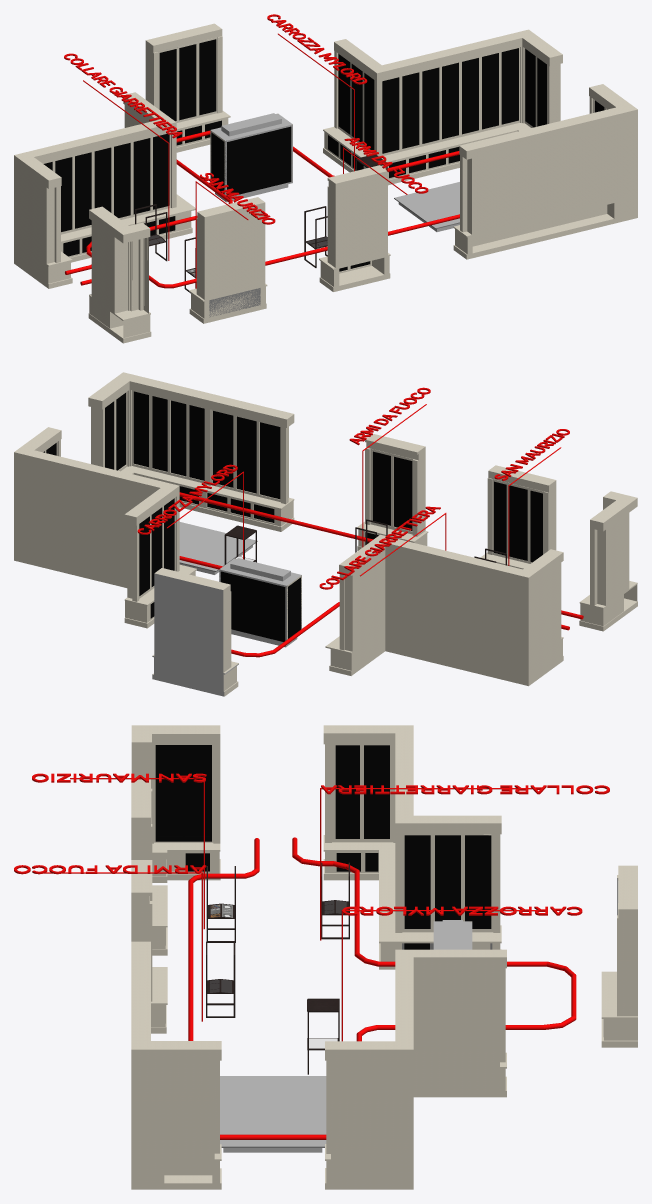
The model's file is rotonda25.obj.
3 renders of one model, top to bottom at view 1: azimuth 30°, elevation 25°; view 2: azimuth 150°, elevation 25°; view 3: azimuth 270°, elevation 25°, orthographic. The views are drawn at different scales.
Parts seen in each view (by area): view 1: Mesh2_Model_4, Mesh1_Model_3, Mesh1_Model_5, Mesh13_Model_3, Mesh12_Group1_Model, Mesh13_Model, Mesh1_Group1_Model_6, Mesh1_Model_2, Mesh13_Model_2, Object_3.001, Mesh1_Group1_Model_4, Object_46 (+9 smaller); view 2: Mesh13_Model_2, Mesh1_Model_5, Mesh2_Model_2, Mesh2_Model_4, Mesh1_Model_2, Object_98, Mesh13_Model_3, Mesh1_Group1_Model_6, Mesh12_Group1_Model, Object_1.001, Mesh12_Group1_Model_2, Mesh1_Group1_Model_5 (+9 smaller); view 3: Mesh1_Model_5, Mesh2_Model_4, Mesh13_Model_2, Object_46, Mesh13_Model, Mesh1_Model_2, Mesh13_Model_3, Mesh1_Group1_Model_4, Mesh1_Group1_Model_6, Mesh12_Group1_Model, Mesh6_Model, Mesh5_Model (+8 smaller).
Part boxes in pixels (x1,y1,x2,y2): Mesh2_Model_4: (453,84,637,259); Mesh1_Model_3: (328,48,546,177); Mesh1_Model_5: (323,29,562,185); Mesh13_Model_3: (14,97,195,288); Mesh12_Group1_Model: (189,197,267,323); Mesh13_Model: (43,134,175,256); Mesh1_Group1_Model_6: (319,165,390,291); Mesh1_Model_2: (88,206,151,343); Mesh13_Model_2: (14,92,195,266); Object_3.001: (227,126,291,195); Mesh1_Group1_Model_4: (65,130,459,288); Object_46: (394,182,459,227); Mesh13_Model_2: (326,534,562,685); Mesh1_Model_5: (14,427,196,628); Mesh2_Model_2: (105,391,280,522); Mesh2_Model_4: (88,372,294,531); Mesh1_Model_2: (579,491,637,631); Object_98: (159,581,218,671); Mesh13_Model_3: (325,544,563,685); Mesh1_Group1_Model_6: (357,434,428,550); Mesh12_Group1_Model: (480,465,556,569); Object_1.001: (221,571,285,641); Mesh12_Group1_Model_2: (494,481,542,562); Mesh1_Group1_Model_5: (365,451,412,545); Mesh1_Model_5: (325,949,506,1189); Mesh2_Model_4: (131,941,221,1189); Mesh13_Model_2: (323,725,501,961); Object_46: (220,1076,326,1146); Mesh13_Model: (335,745,389,871); Mesh1_Model_2: (131,725,220,882); Mesh13_Model_3: (323,733,501,969); Mesh1_Group1_Model_4: (188,837,576,1139); Mesh1_Group1_Model_6: (131,860,167,1033); Mesh12_Group1_Model: (131,779,167,955); Mesh6_Model: (155,745,183,841); Mesh5_Model: (183,745,211,841).
Size of the model in its own units: 22.04 by 5 by 17.92.
